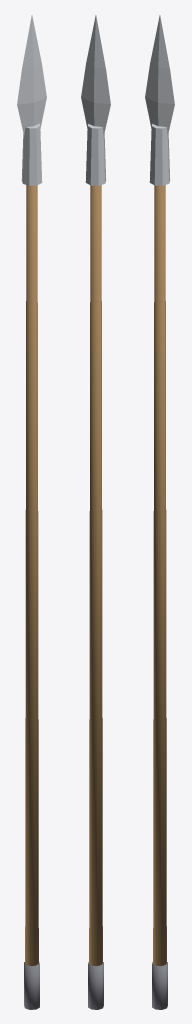
The model's file is arme_lance.glb.
3 renders of one model, left to right at view 1: azimuth 30°, elevation 25°; view 2: azimuth 150°, elevation 25°; view 3: azimuth 330°, elevation 25°, orthographic.
Visible parts, largest first — view 1: lance_hampe, lance_fer, lance_talon; view 2: lance_hampe, lance_fer, lance_talon; view 3: lance_hampe, lance_fer, lance_talon.
Boxes of the visible parts, x1=… form: lance_hampe: x1=25, y1=185, x2=38, y2=965; lance_fer: x1=17, y1=15, x2=46, y2=185; lance_talon: x1=24, y1=962, x2=39, y2=1009; lance_hampe: x1=89, y1=185, x2=102, y2=965; lance_fer: x1=81, y1=15, x2=110, y2=185; lance_talon: x1=88, y1=962, x2=103, y2=1009; lance_hampe: x1=153, y1=185, x2=166, y2=965; lance_fer: x1=145, y1=15, x2=174, y2=185; lance_talon: x1=152, y1=962, x2=167, y2=1009.
Size of the model in its own units: 0.072 by 2.28 by 0.044.
